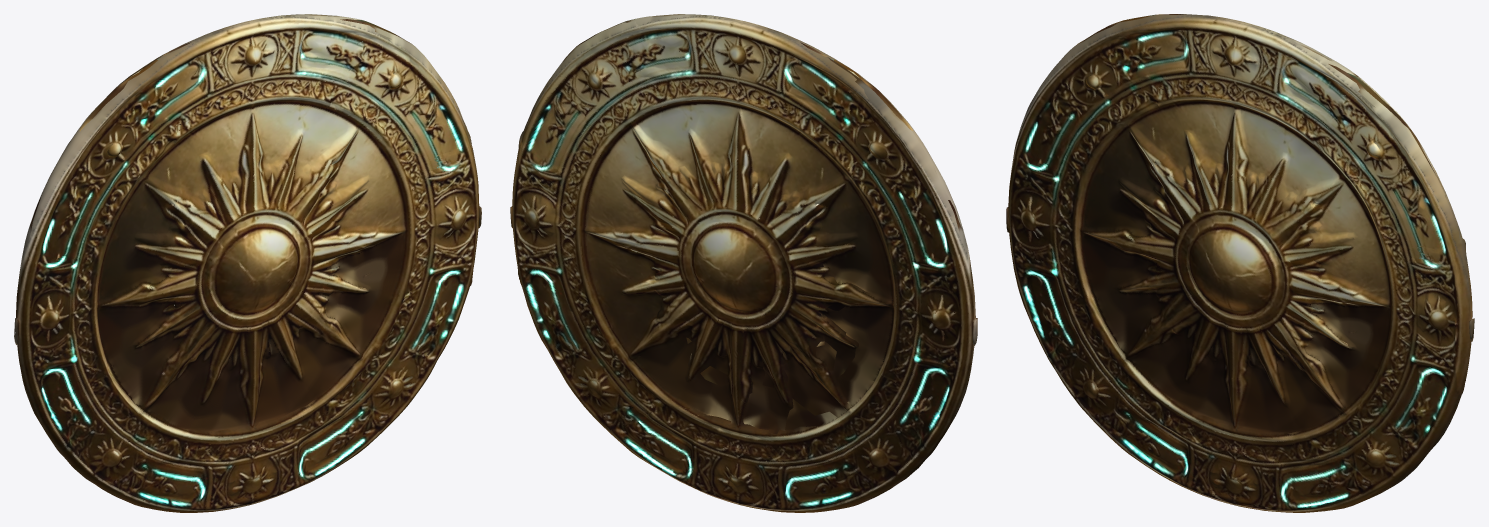
The model's file is solar_shield.glb.
3 renders of one model, left to right at view 1: azimuth 30°, elevation 25°; view 2: azimuth 150°, elevation 25°; view 3: azimuth 330°, elevation 25°, orthographic.
Visible parts, largest first — view 1: geometry_0; view 2: geometry_0; view 3: geometry_0.
Boxes of the visible parts, x1=… form: geometry_0: x1=14, y1=14, x2=481, y2=512; geometry_0: x1=510, y1=14, x2=977, y2=512; geometry_0: x1=1006, y1=14, x2=1474, y2=512.
Bounding box in the file's own units: 0.9588 × 0.9501 × 0.1022.
1 material, 1 textured.
